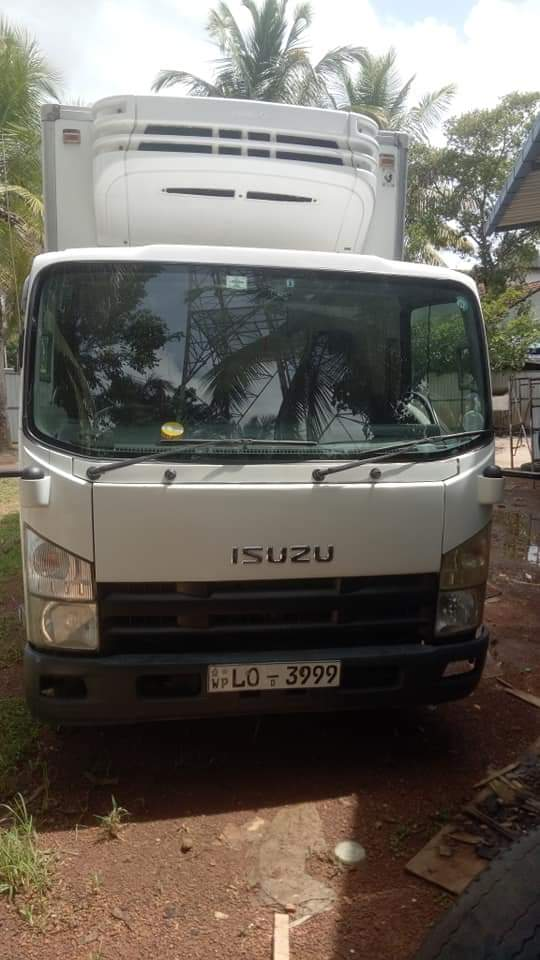number_plate: (199, 663, 344, 690)
